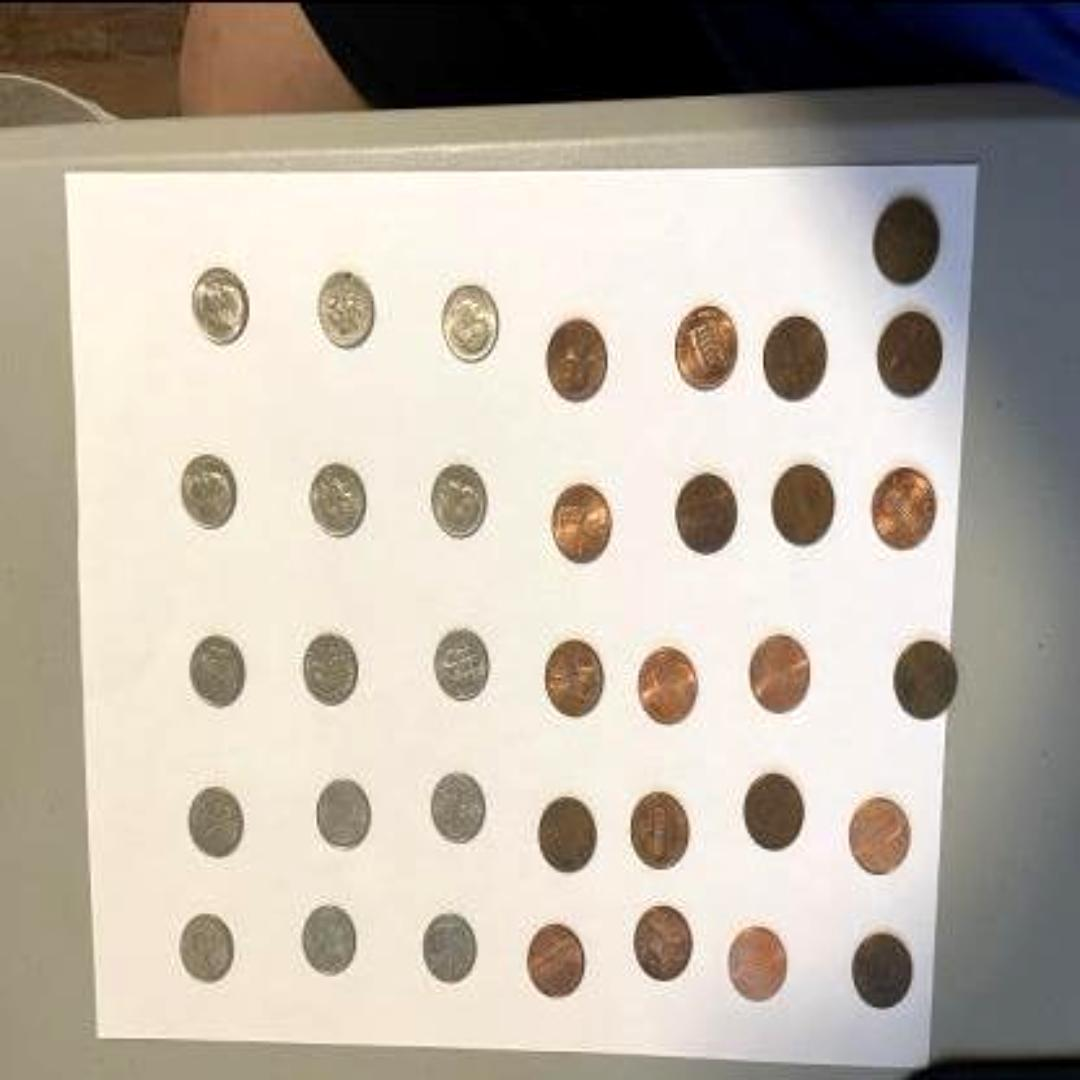Dime: (188, 252, 255, 346), (317, 260, 379, 348), (431, 452, 493, 540), (187, 628, 249, 712), (179, 447, 238, 535), (418, 904, 480, 986), (302, 623, 359, 711), (312, 768, 370, 852), (444, 280, 501, 364), (298, 901, 357, 981), (190, 778, 246, 862), (180, 906, 236, 986), (436, 624, 494, 700), (432, 766, 488, 844), (309, 458, 366, 534)
Penny: (875, 190, 947, 282), (540, 631, 608, 727), (673, 467, 745, 555), (766, 309, 834, 402), (771, 458, 838, 550), (896, 633, 958, 729), (747, 626, 814, 714), (870, 462, 937, 550), (878, 309, 945, 397), (636, 642, 706, 726), (678, 298, 740, 392), (724, 922, 792, 1005), (746, 766, 810, 854), (548, 317, 610, 405), (553, 473, 615, 561), (631, 784, 693, 872), (849, 792, 916, 870), (538, 794, 600, 878), (522, 920, 590, 996), (634, 901, 696, 978), (857, 928, 919, 1005)
